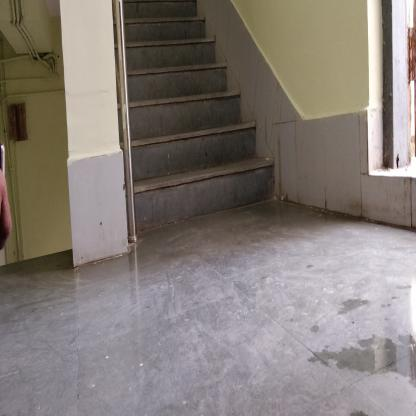stairs: (139, 13, 206, 235)
